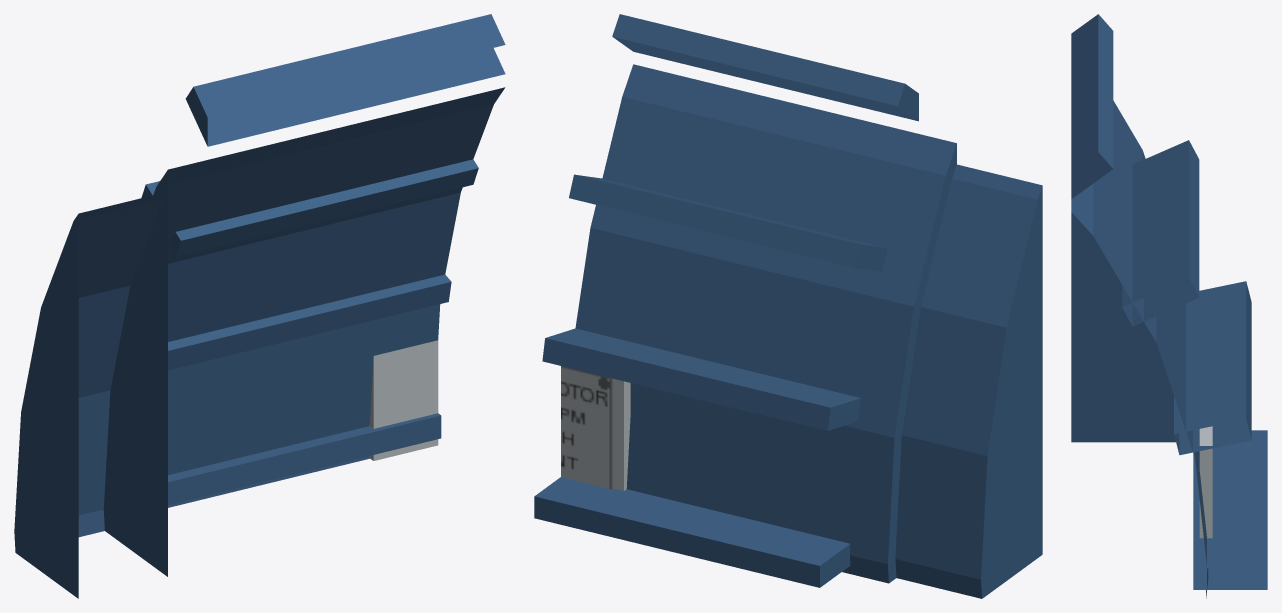
The model's file is cell_26.obj.
3 views of the same model, side by side, from view 1: azimuth 30°, elevation 25°; view 2: azimuth 150°, elevation 25°; view 3: azimuth 270°, elevation 25° (orthographic). The views are drawn at different scales.
Size of the model in its own units: 0.43 by 0.4526 by 0.18.
